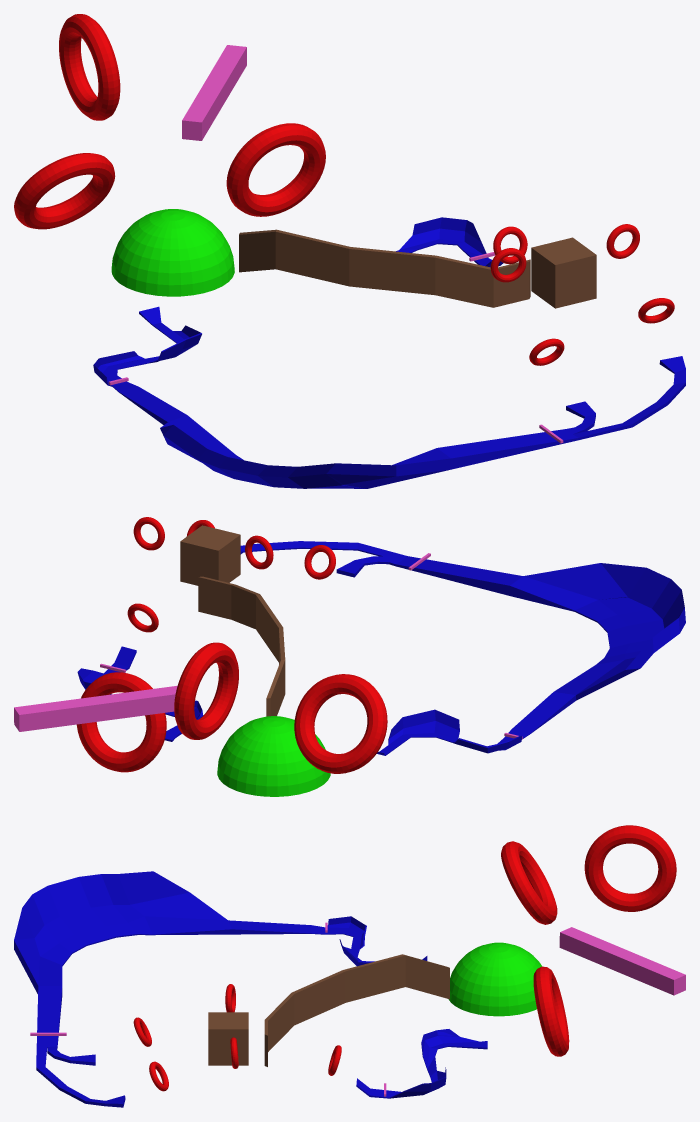
File: track 1 but for unreal.fbx
The picture shows the model from 3 angles, top to bottom: view 1: azimuth 30°, elevation 25°; view 2: azimuth 150°, elevation 25°; view 3: azimuth 270°, elevation 25°; orthographic projection. The views are drawn at different scales.
Visible parts, largest first — view 1: section 1, debris, dome, robot, items 4; view 2: section 1, dome, items 4, debris, robot; view 3: section 1, debris, dome, items 4, robot.
Part boxes in pixels (x1=…): section 1: x1=14, y1=14, x2=685, y2=488; debris: x1=239, y1=229, x2=530, y2=307; dome: x1=111, y1=209, x2=234, y2=296; robot: x1=531, y1=237, x2=596, y2=308; items 4: x1=182, y1=45, x2=246, y2=140; section 1: x1=76, y1=517, x2=685, y2=773; dome: x1=217, y1=716, x2=330, y2=796; items 4: x1=14, y1=685, x2=177, y2=731; debris: x1=198, y1=576, x2=285, y2=716; robot: x1=180, y1=525, x2=240, y2=585; section 1: x1=14, y1=825, x2=676, y2=1107; debris: x1=264, y1=954, x2=449, y2=1066; dome: x1=448, y1=942, x2=542, y2=1016; items 4: x1=559, y1=927, x2=685, y2=995; robot: x1=208, y1=1012, x2=248, y2=1065.
Size of the model in its own units: 40991 by 15080 by 54615.
